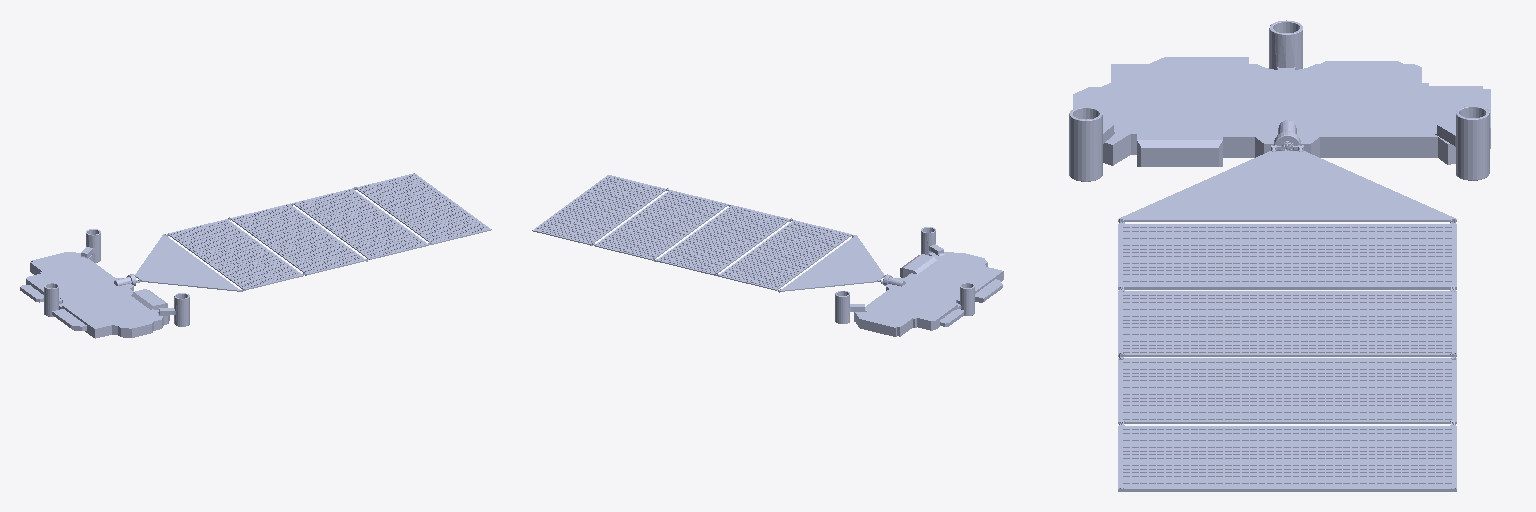
The robot description file, URDF, robot "starlink":
<?xml version="1.0" encoding="utf-8"?>
<!-- This URDF was automatically created by SolidWorks to URDF Exporter! Originally created by [author] ([email redacted]) 
     Commit Version: 1.6.0-4-g7f85cfe  Build Version: 1.6.7995.38578
     For more information, please see http://wiki.ros.org/sw_urdf_exporter -->
<robot
  name="starlink">
  <link
    name="base_star_link">
    <inertial>
      <origin
        xyz="0.064043 0.049818 0.075117"
        rpy="0 0 0" />
      <mass
        value="365.27" />
      <inertia
        ixx="166.05"
        ixy="0.9609"
        ixz="-0.9195"
        iyy="43.737"
        iyz="0.18316"
        izz="207.92" />
    </inertial>
    <visual>
      <origin
        xyz="0 0 0"
        rpy="0 0 0" />
      <geometry>
        <mesh
          filename="package://starlink/meshes/base_star_link.STL" />
      </geometry>
      <material
        name="">
        <color
          rgba="0.79216 0.81961 0.93333 1" />
        <texture
          filename="package://starlink/textures/1.png" />
      </material>
    </visual>
    <collision>
      <origin
        xyz="0 0 0"
        rpy="0 0 0" />
      <geometry>
        <mesh
          filename="package://starlink/meshes/base_star_link.STL" />
      </geometry>
    </collision>
  </link>
  <link
    name="panel_Link">
    <inertial>
      <origin
        xyz="0.18387 4.5116E-05 0.0089121"
        rpy="0 0 0" />
      <mass
        value="146.07" />
      <inertia
        ixx="45.09"
        ixy="7.5802E-12"
        ixz="-2.6455E-06"
        iyy="9.2979"
        iyz="-4.89E-13"
        izz="54.377" />
    </inertial>
    <visual>
      <origin
        xyz="0 0 0"
        rpy="0 0 0" />
      <geometry>
        <mesh
          filename="package://starlink/meshes/panel_Link.STL" />
      </geometry>
      <material
        name="">
        <color
          rgba="0.79216 0.81961 0.93333 1" />
        <texture
          filename="package://starlink/textures/5.png" />
      </material>
    </visual>
    <collision>
      <origin
        xyz="0 0 0"
        rpy="0 0 0" />
      <geometry>
        <mesh
          filename="package://starlink/meshes/panel_Link.STL" />
      </geometry>
    </collision>
  </link>
  <joint
    name="panel"
    type="fixed">
    <origin
      xyz="3.1501 0.12613 0.143"
      rpy="0 0 0" />
    <parent
      link="base_star_link" />
    <child
      link="panel_Link" />
    <axis
      xyz="0 0 0" />
  </joint>
</robot>

--- What the picture shows (computed from the rendered views, not written in the file) ---
Views: 3 orthographic renders of the robot side by side, from view 1: azimuth 30°, elevation 25°; view 2: azimuth 150°, elevation 25°; view 3: azimuth 270°, elevation 25°.
Model starlink with 2 links and 1 joints (1 fixed), rooted at base_star_link, posed every joint at zero.
Links seen in each view (by area): view 1: panel_Link, base_star_link; view 2: panel_Link, base_star_link; view 3: panel_Link, base_star_link.
Link boxes in pixels (x1=…): panel_Link: x1=133, y1=173, x2=491, y2=291; base_star_link: x1=20, y1=229, x2=189, y2=338; panel_Link: x1=532, y1=175, x2=884, y2=292; base_star_link: x1=835, y1=227, x2=1003, y2=336; panel_Link: x1=1118, y1=141, x2=1456, y2=491; base_star_link: x1=1069, y1=20, x2=1490, y2=181.
Bounding box of the posed robot: 6.16 × 2.49 × 0.4335 m (x, y, z).
2 mesh visuals loaded from 2 distinct referenced files (2 binary STL).